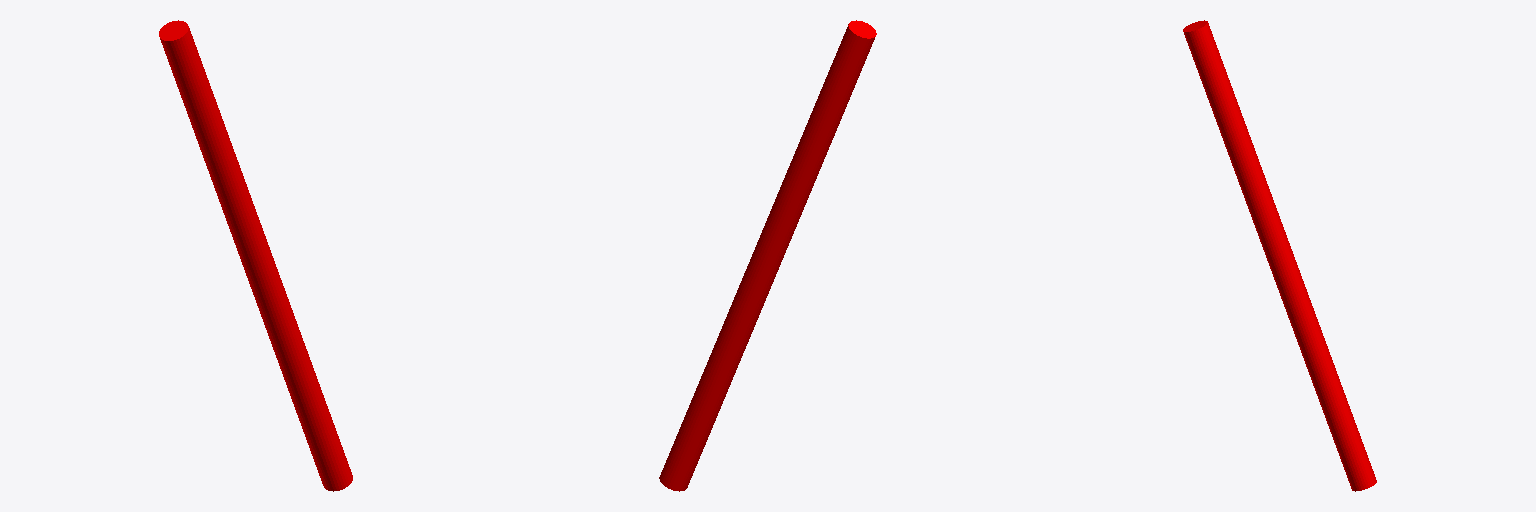
The robot description file, URDF, robot "tree_14.urdf":
<?xml version='1.0' encoding='utf-8'?>
<robot name="tree_14.urdf">
  <link name="branch_0">
    <inertial>
      <origin xyz="0.0 0.0 0.0" rpy="0.0 -0.0 0.0" />
      <mass value="1.0" />
      <inertia ixx="1.0" ixy="0.0" ixz="0.0" iyy="1.0" iyz="0.0" izz="1.0" />
    </inertial>
    <visual name="branch_0_visual">
      <geometry>
        <cylinder radius="0.06623314568882309" length="2.5262356605409977" />
      </geometry>
      <material name="semantic_material" />
      <origin xyz="-0.44216489449300306 -0.07178720462346651 1.181017974663211" rpy="1.3698425071503084e-17 0.36253100420276835 -2.980643072579401" />
    </visual>
    <collision name="branch_0_collision">
      <geometry>
        <cylinder radius="0.06623314568882309" length="2.5262356605409977" />
      </geometry>
      <origin xyz="-0.44216489449300306 -0.07178720462346651 1.181017974663211" rpy="1.3698425071503084e-17 0.36253100420276835 -2.980643072579401" />
    </collision>
  </link>
  <material name="semantic_material">
    <color rgba="1. 0. 0. 1." />
  </material>
</robot>

--- What the picture shows (computed from the rendered views, not written in the file) ---
The picture shows the robot from 3 angles, left to right: view 1: azimuth 30°, elevation 25°; view 2: azimuth 150°, elevation 25°; view 3: azimuth 330°, elevation 25°; orthographic projection.
Robot: tree_14.urdf — 1 links, 0 joints (none); root link branch_0; default pose: every joint at zero.
Links seen in each view (by area): view 1: branch_0; view 2: branch_0; view 3: branch_0.
Link boxes in pixels (x1,y1,x2,y2): branch_0: [159, 20, 352, 491]; branch_0: [659, 20, 876, 491]; branch_0: [1183, 20, 1376, 491].
Bounding box of the posed robot: 1.01 × 0.2757 × 2.41 m (x, y, z).
Geometry: primitives only (box / cylinder / sphere), no mesh files.